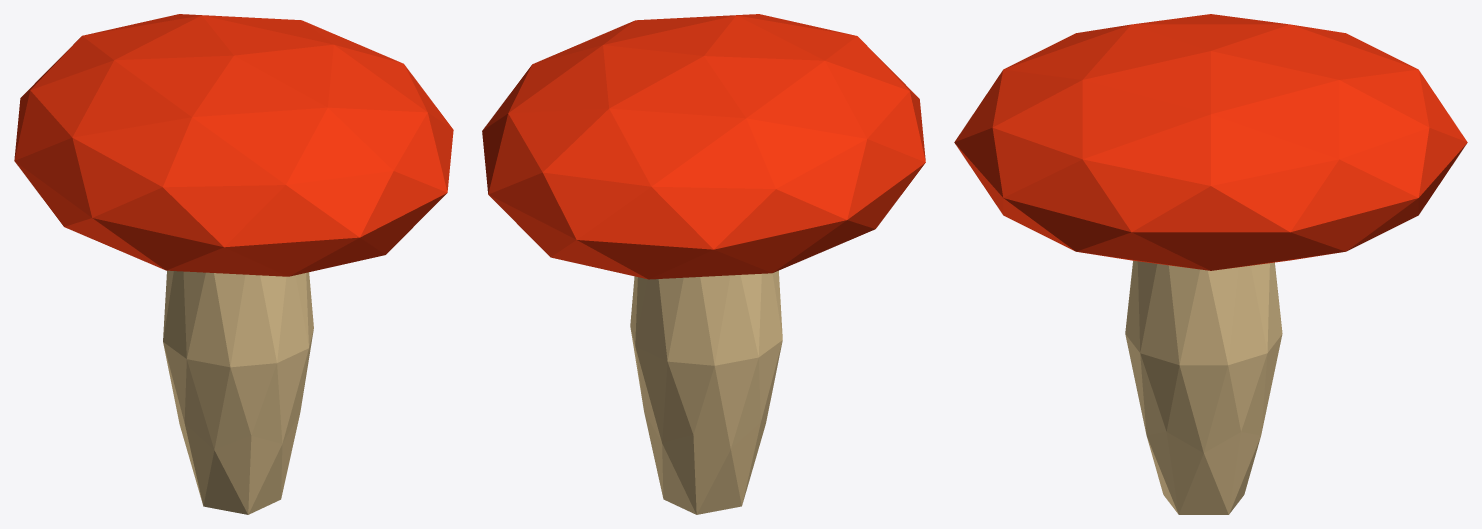
File: mushroom.obj
3 renders of one model, left to right at view 1: azimuth 30°, elevation 25°; view 2: azimuth 150°, elevation 25°; view 3: azimuth 270°, elevation 25°, orthographic.
Visible parts, largest first — view 1: Icosphere; view 2: Icosphere; view 3: Icosphere.
Part boxes in pixels (<box>): Icosphere: <box>14,14,453,514</box>; Icosphere: <box>482,14,925,514</box>; Icosphere: <box>954,14,1467,514</box>.
Size of the model in its own units: 2.23 by 2.6 by 2.69.
